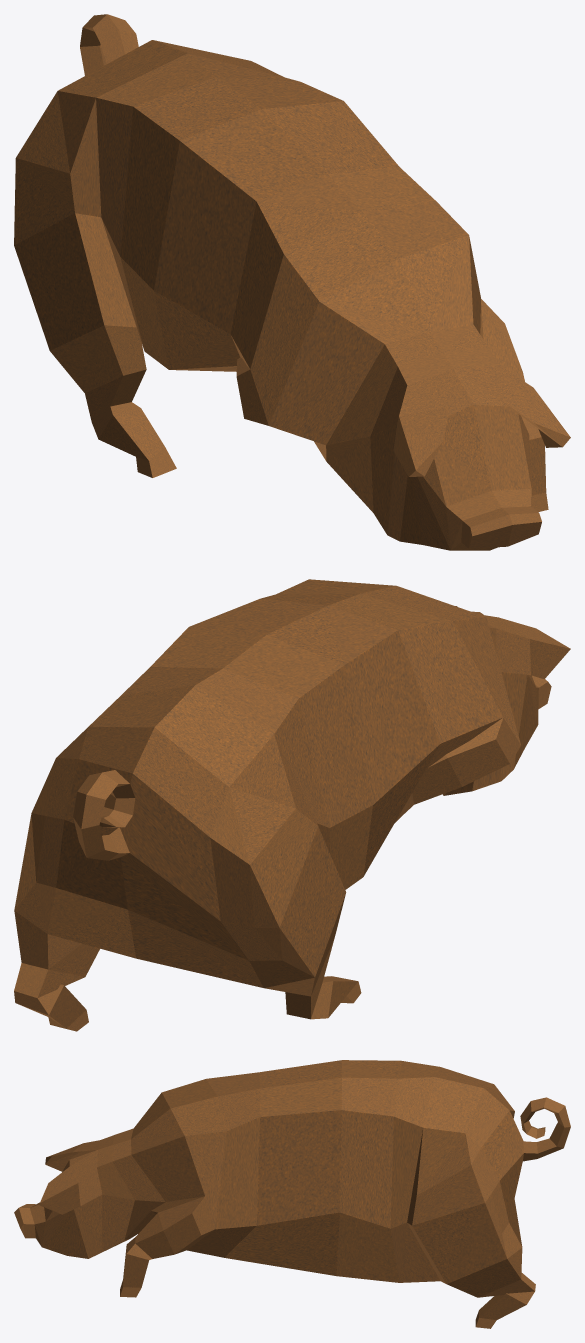
File: Pig_000009.obj
3 views of the same model, one above another, from view 1: azimuth 30°, elevation 25°; view 2: azimuth 150°, elevation 25°; view 3: azimuth 270°, elevation 25° (orthographic). The views are drawn at different scales.
Visible parts, largest first — view 1: Pig_Cylinder; view 2: Pig_Cylinder; view 3: Pig_Cylinder.
Boxes of the visible parts, x1,y1,x2,y2 form: Pig_Cylinder: (14,14,570,550); Pig_Cylinder: (14,579,570,1031); Pig_Cylinder: (14,1060,570,1328).
Bounding box in the file's own units: 3.37 × 4.21 × 9.66.
1 material, 1 textured.
